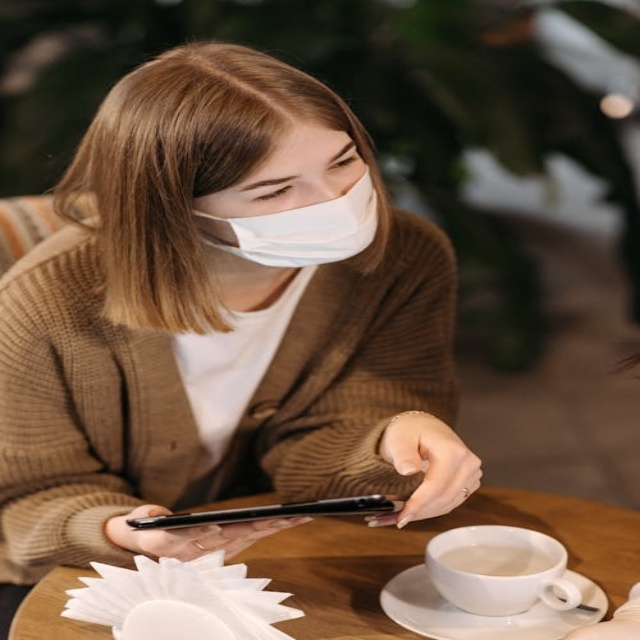Mascara: (188, 165, 381, 267)
Sin_gafas: (228, 144, 365, 214)
Sin_guantes: (372, 410, 484, 530), (108, 503, 313, 564)
